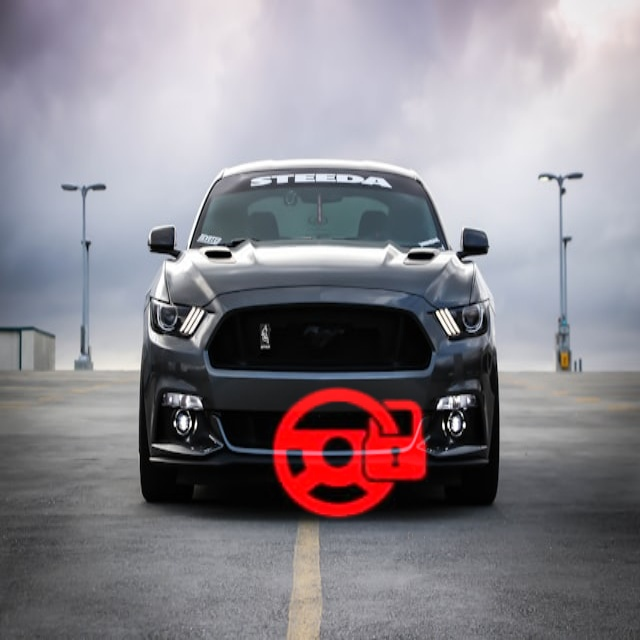symbol: (250, 353, 452, 555)
